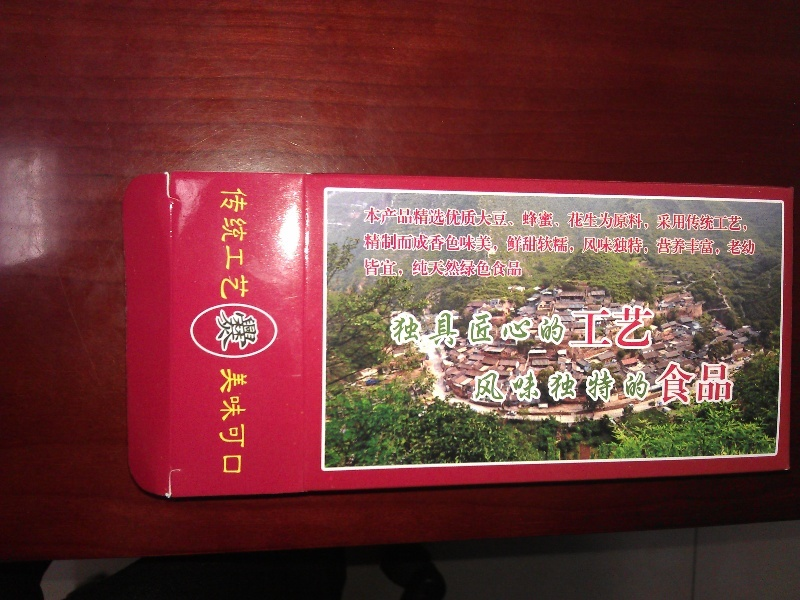text: (225, 188, 240, 300), (225, 368, 240, 474), (241, 188, 249, 300), (241, 368, 248, 474), (401, 306, 416, 350), (417, 306, 432, 350), (433, 306, 448, 350), (449, 306, 464, 350), (465, 306, 480, 350), (481, 306, 496, 350), (497, 306, 512, 350), (513, 306, 528, 350), (529, 306, 544, 350), (545, 306, 560, 350), (561, 306, 576, 350), (577, 306, 592, 350), (593, 306, 608, 350), (609, 306, 624, 350), (625, 306, 640, 350), (481, 361, 496, 403), (497, 361, 512, 403), (513, 361, 528, 403), (529, 361, 544, 403), (545, 361, 560, 403), (561, 361, 576, 403), (577, 361, 592, 403), (593, 361, 608, 403), (609, 361, 624, 403), (625, 361, 640, 403), (641, 361, 656, 403), (657, 361, 672, 403), (673, 361, 688, 403), (689, 361, 704, 403), (705, 361, 720, 403), (225, 310, 240, 352), (241, 310, 256, 352), (641, 306, 655, 350), (721, 361, 734, 403), (219, 368, 224, 474), (220, 188, 224, 300), (390, 306, 400, 350), (369, 205, 384, 233), (385, 205, 400, 233), (401, 205, 416, 233), (417, 205, 432, 233), (433, 205, 448, 233), (449, 205, 464, 233), (465, 205, 480, 233), (481, 205, 496, 233), (497, 205, 512, 233), (513, 205, 528, 233), (529, 205, 544, 233), (545, 205, 560, 233), (561, 205, 576, 233), (577, 205, 592, 233), (593, 205, 608, 233), (609, 205, 624, 233), (625, 205, 640, 233), (641, 205, 656, 233), (657, 205, 672, 233), (673, 205, 688, 233), (689, 205, 704, 233), (705, 205, 720, 233), (721, 205, 736, 233), (471, 361, 480, 403), (215, 310, 224, 352), (369, 232, 384, 257), (385, 232, 400, 257), (401, 232, 416, 257), (417, 232, 432, 257), (433, 232, 448, 257), (449, 232, 464, 257), (465, 232, 480, 257), (481, 232, 496, 257), (497, 232, 512, 257), (513, 232, 528, 257), (529, 232, 544, 257), (545, 232, 560, 257), (561, 232, 576, 257), (577, 232, 592, 257), (593, 232, 608, 257), (609, 232, 624, 257), (625, 232, 640, 257), (641, 232, 656, 257), (657, 232, 672, 257), (673, 232, 688, 257), (689, 232, 704, 257), (705, 232, 720, 257), (721, 232, 736, 257), (737, 232, 752, 257), (737, 205, 750, 233), (369, 258, 384, 279), (385, 258, 400, 279), (401, 258, 416, 279), (417, 258, 432, 279), (433, 258, 448, 279), (449, 258, 464, 279), (465, 258, 480, 279), (481, 258, 496, 279), (497, 258, 512, 279), (513, 258, 525, 279), (257, 310, 260, 352), (363, 232, 368, 257), (364, 205, 368, 233), (753, 232, 757, 257), (364, 258, 368, 279)
